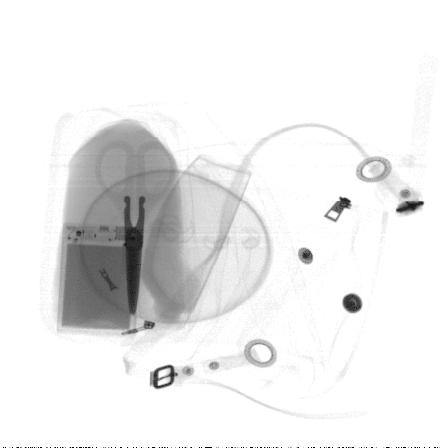Powerbank: (55, 223, 145, 334)
Scissors: (94, 139, 177, 316)
